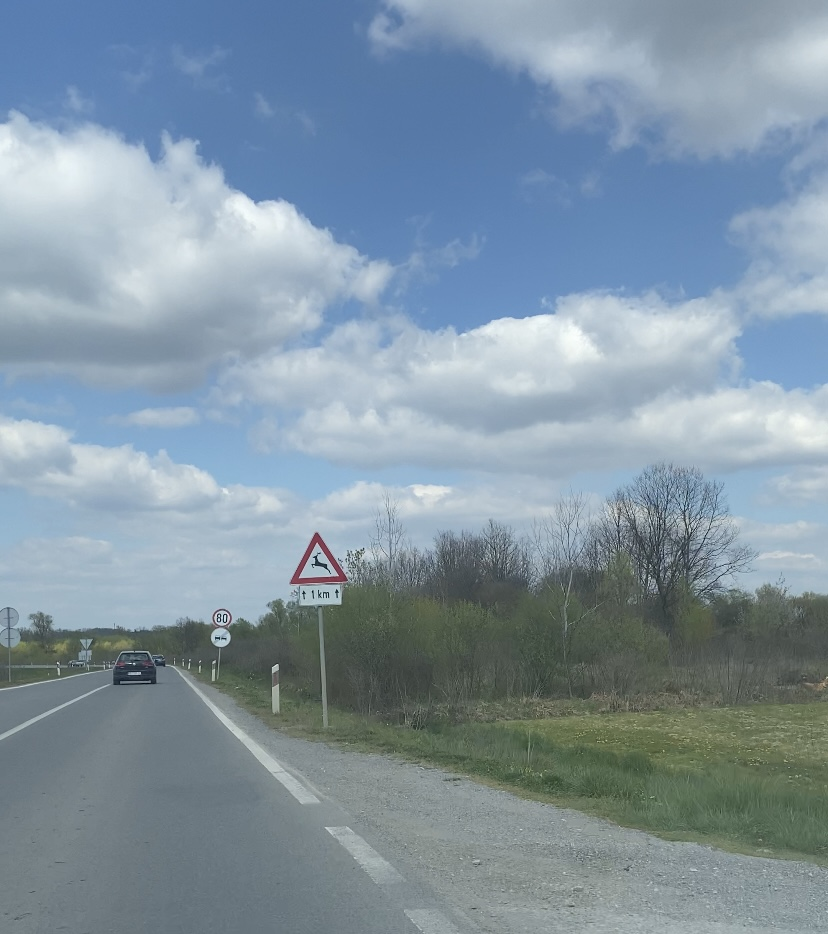Divljač na cesti: (290, 532, 348, 586)
